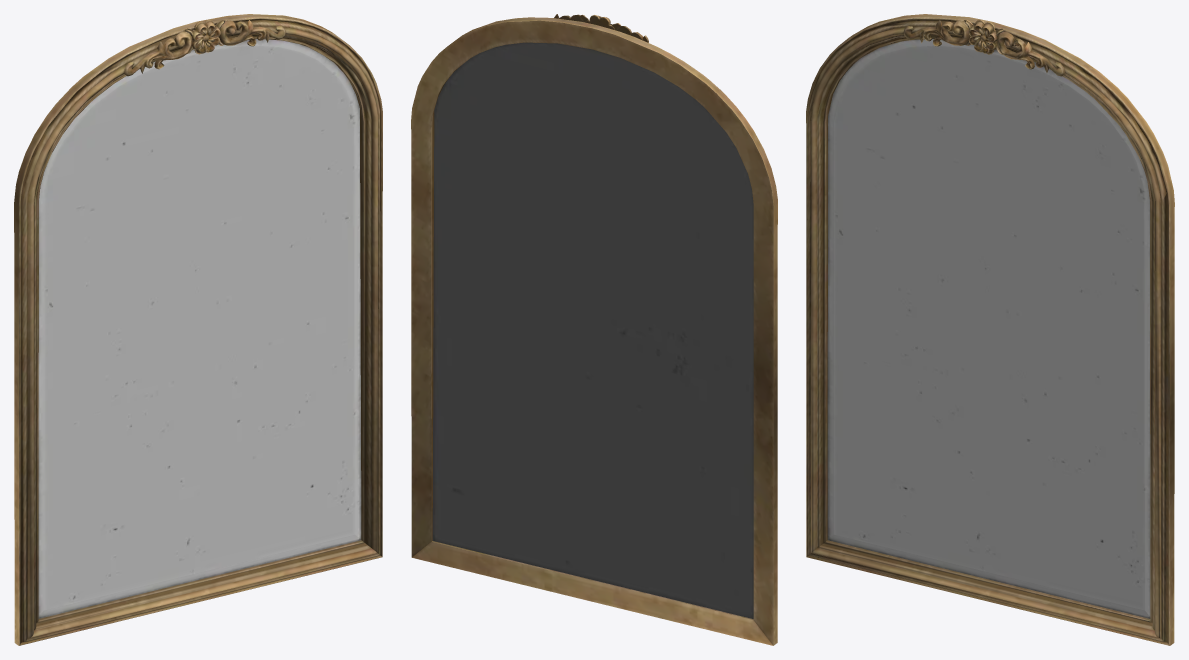
The model's file is ornate_mirror_01.glb.
3 views of the same model, side by side, from view 1: azimuth 30°, elevation 25°; view 2: azimuth 150°, elevation 25°; view 3: azimuth 330°, elevation 25° (orthographic).
Parts seen in each view (by area): view 1: ornate_mirror_01; view 2: ornate_mirror_01; view 3: ornate_mirror_01.
Part boxes in pixels (x1,y1,x2,y2): ornate_mirror_01: (14, 14, 382, 645); ornate_mirror_01: (411, 14, 777, 645); ornate_mirror_01: (806, 14, 1174, 645).
Bounding box in the file's own units: 0.4865 × 0.7437 × 0.026.
Materials: 1 (1 with a texture image).
